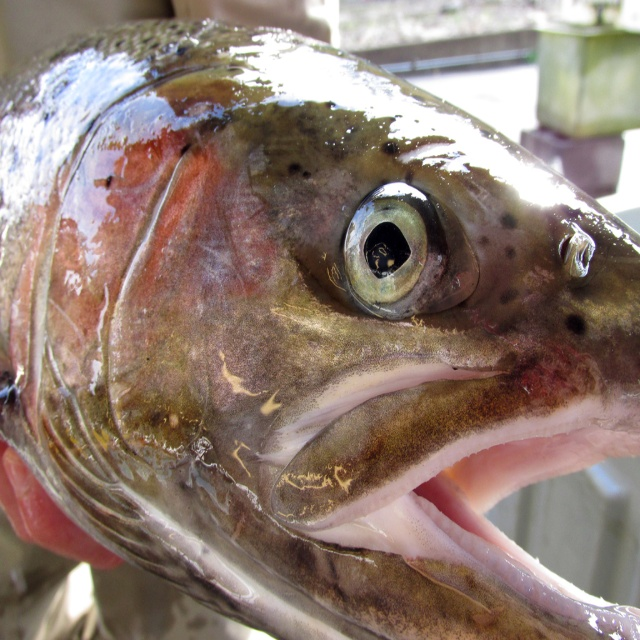Fish: (0, 21, 640, 640)
